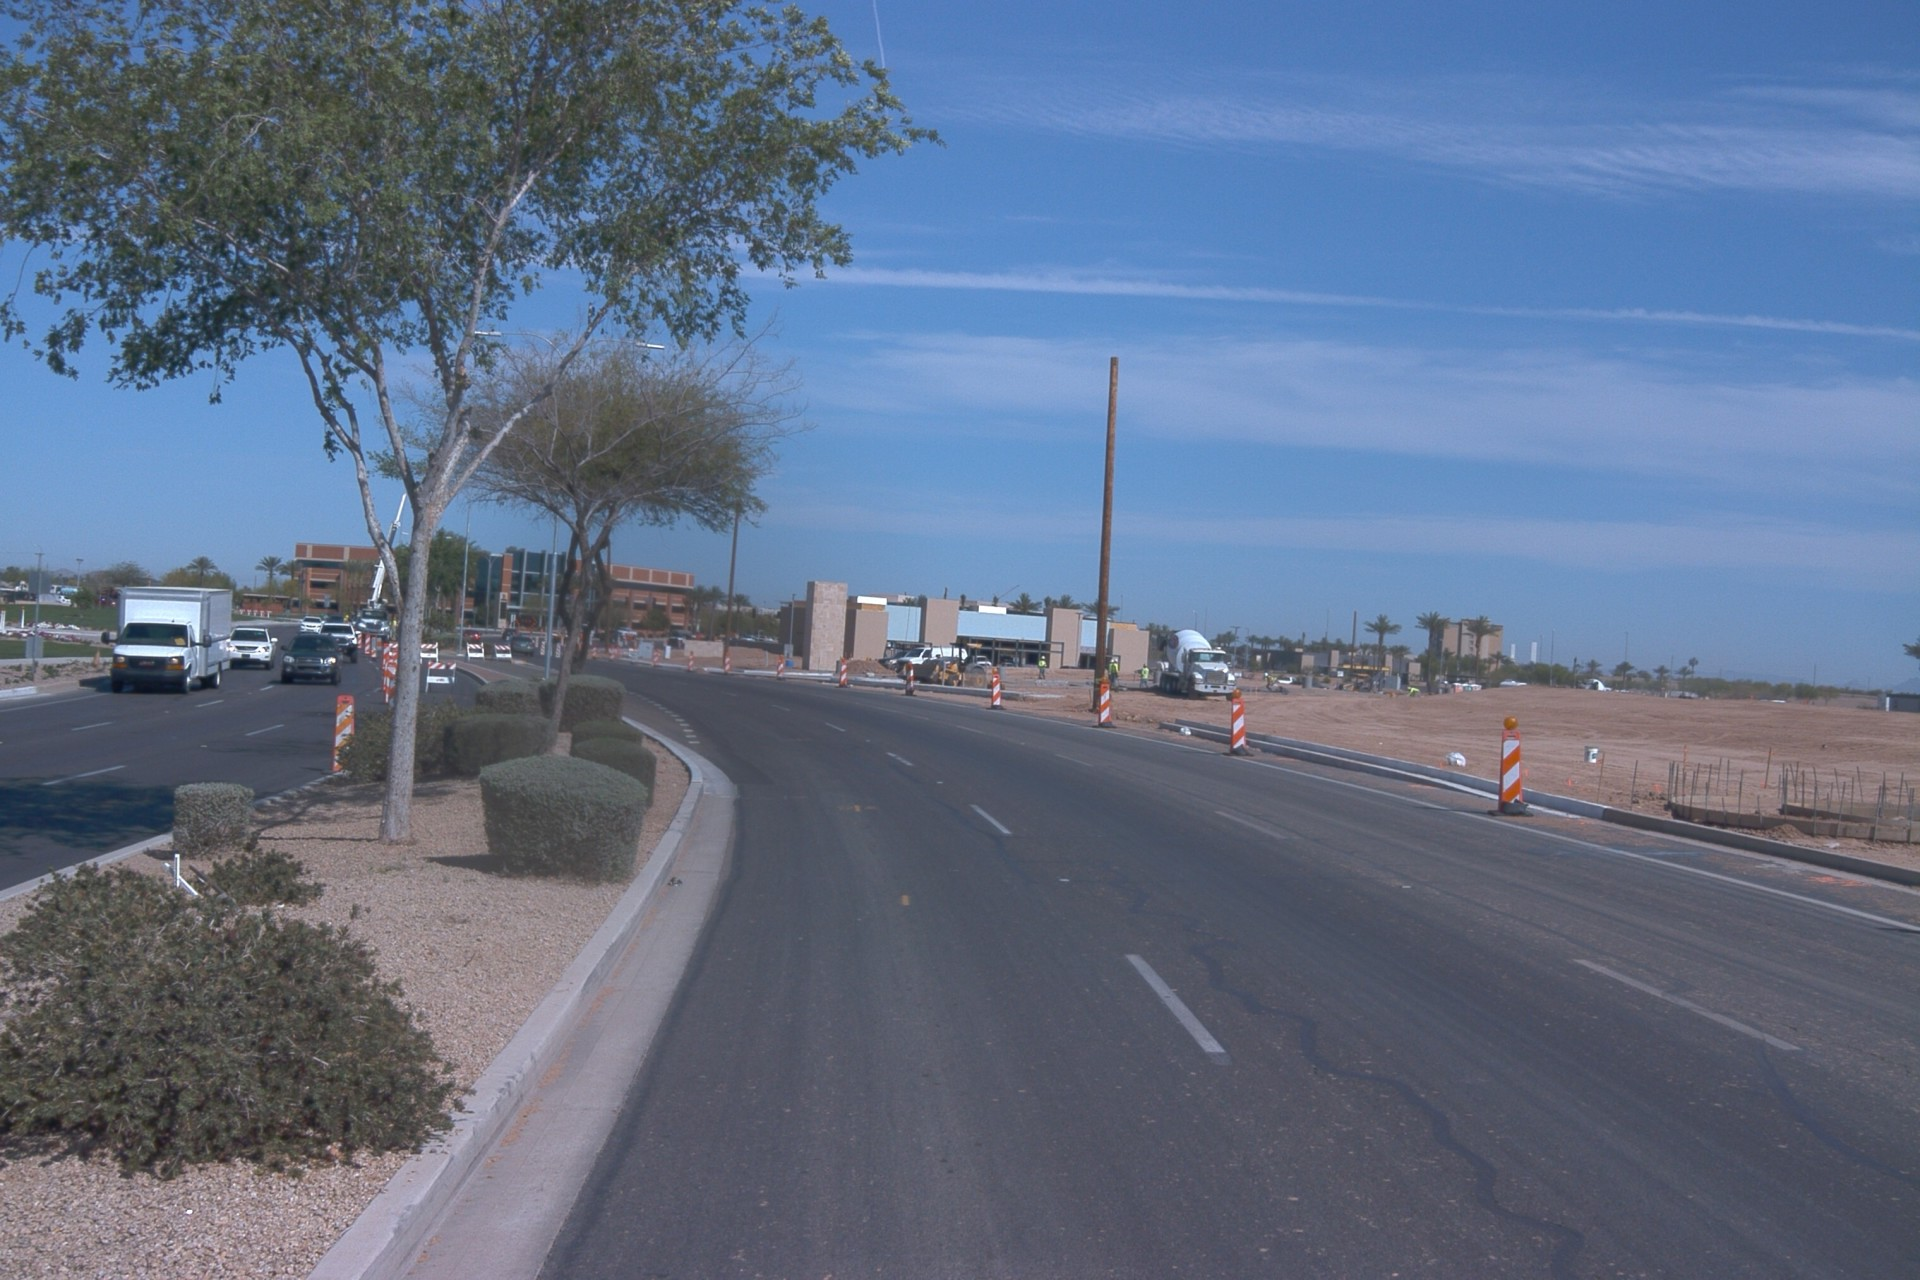TYPE_PEDESTRIAN: (1108, 657, 1121, 690), (1139, 663, 1151, 693), (1262, 673, 1276, 693), (1037, 654, 1047, 680), (1107, 659, 1115, 687), (390, 616, 398, 637)
TYPE_VEHICLE: (99, 586, 237, 697), (343, 480, 410, 659), (279, 629, 342, 683), (220, 625, 279, 671), (894, 645, 968, 674), (316, 621, 362, 665), (1338, 670, 1385, 694), (876, 650, 910, 674), (668, 631, 706, 650), (503, 635, 535, 655), (461, 625, 486, 648), (297, 617, 326, 636), (3, 589, 35, 604), (1495, 678, 1528, 690), (579, 624, 605, 639), (1756, 695, 1790, 705), (969, 652, 990, 667), (1274, 675, 1298, 688), (619, 626, 638, 639), (1155, 660, 1172, 674), (324, 616, 344, 627), (1060, 666, 1080, 671), (1134, 669, 1146, 675), (1089, 664, 1099, 670)
